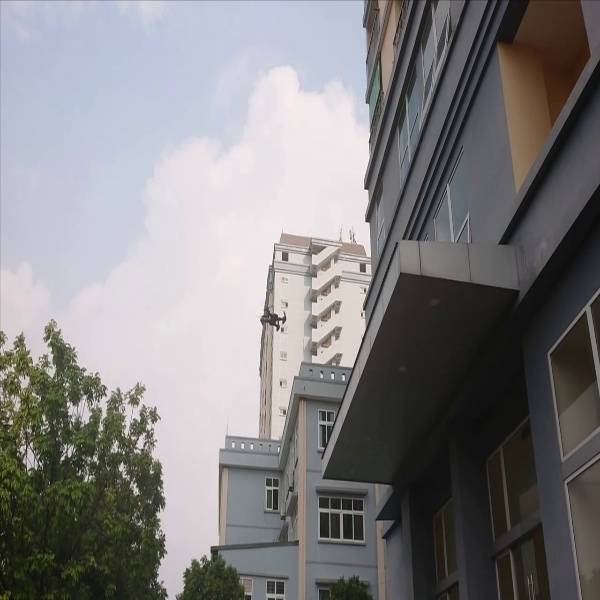drone: (251, 299, 290, 336)
